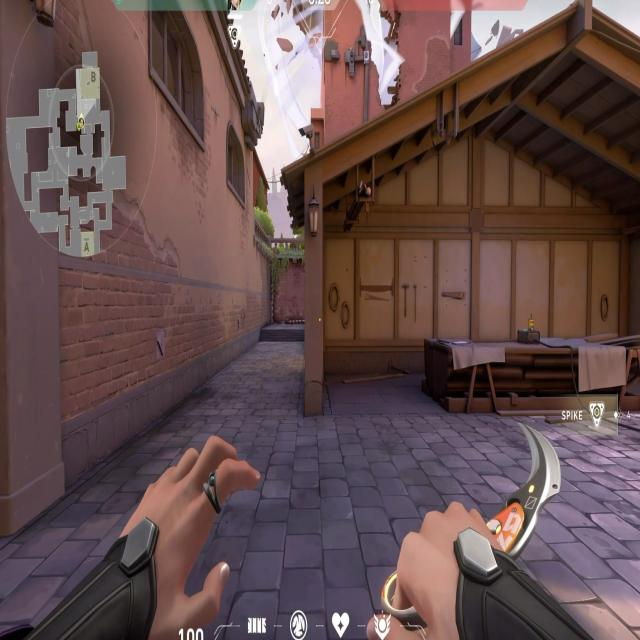B_Garage_Left: (308, 179, 476, 448)
Throwables: (136, 0, 211, 158), (224, 116, 247, 212)
